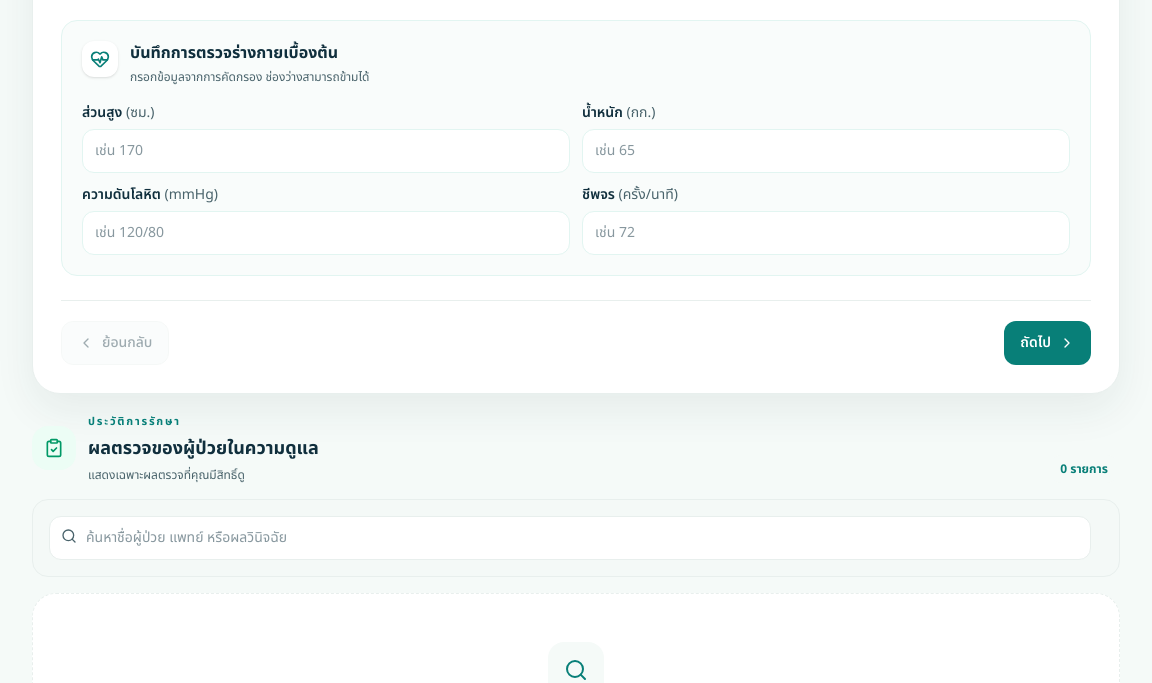
Test case: Clinic database-backed role containers with injected offline repository › removes a medication with a compact red X control without affecting the record form
This screenshot has width=1152, height=683.
(page scrolled)
Click the button "ถัดไป".
click(1048, 343)  # box [1004, 321, 1091, 365]
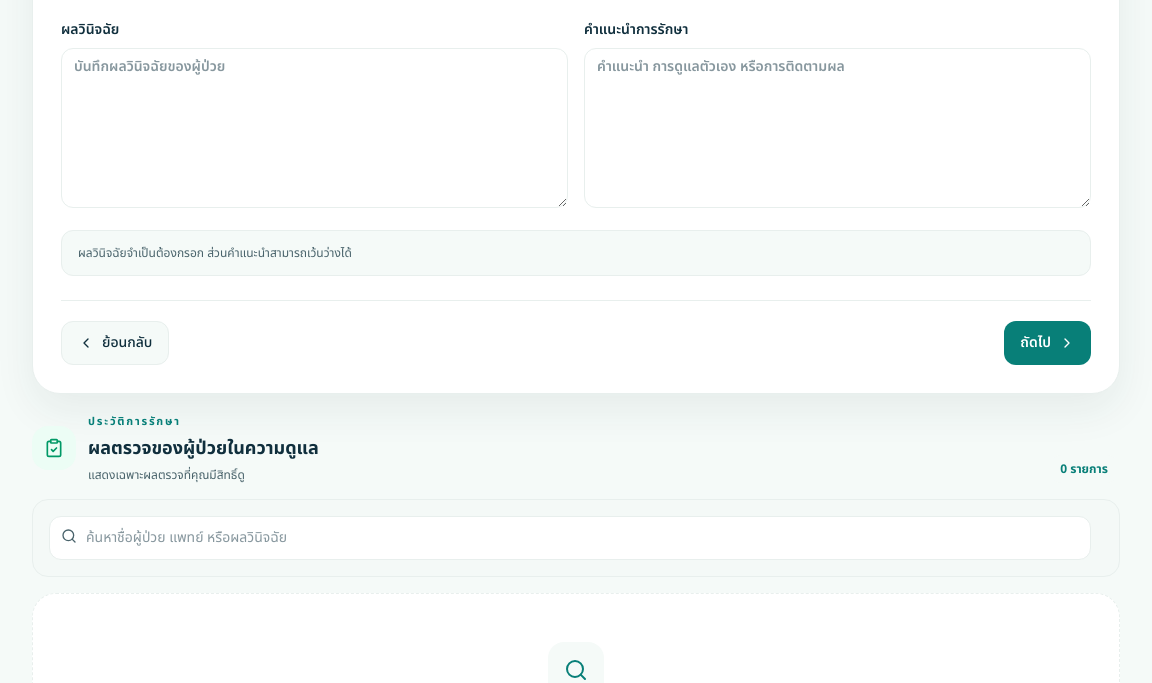
Type "ผลทดสอบ" into the text box labelled "ผลวินิจฉัย".
click(314, 128); type("ผลทดสอบ")  # box [61, 48, 568, 208]
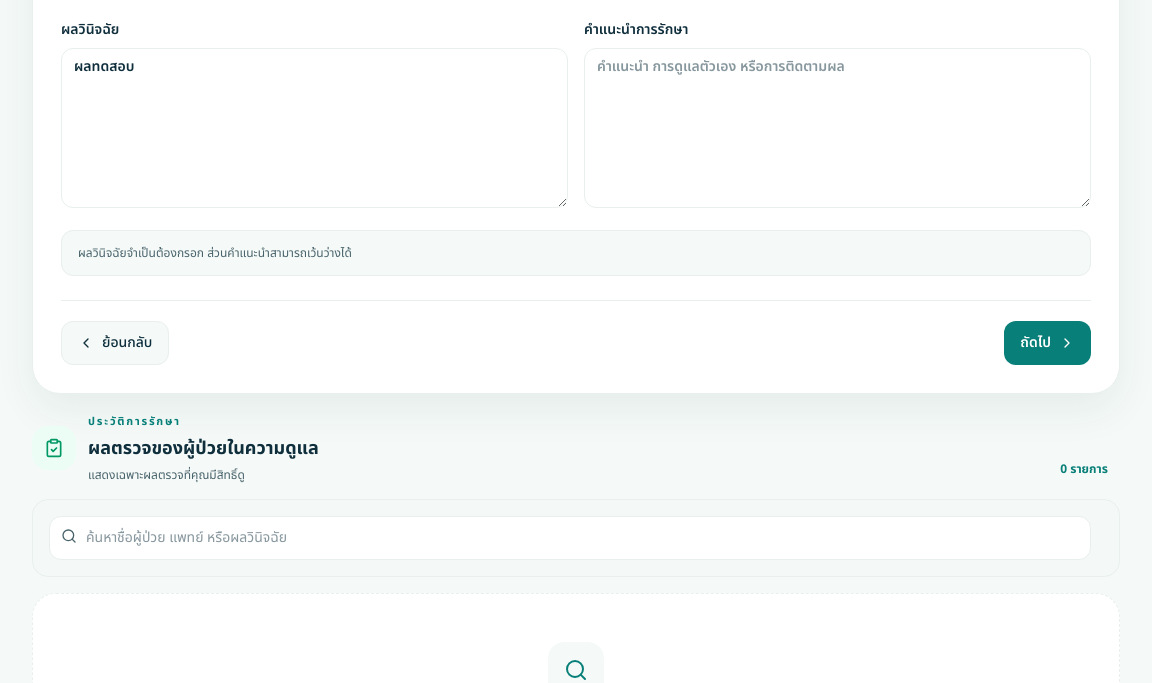
Click the button "ถัดไป".
click(1048, 343)  # box [1004, 321, 1091, 365]
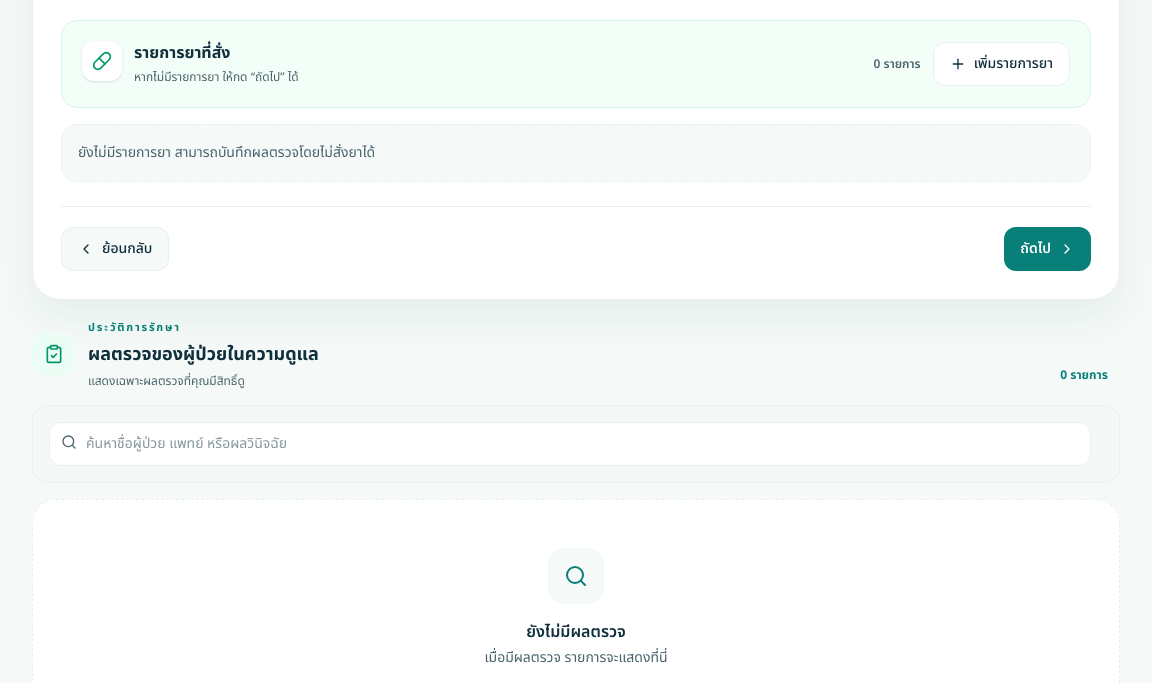
Click the button "เพิ่มรายการยา".
click(1001, 64)  # box [933, 42, 1070, 86]
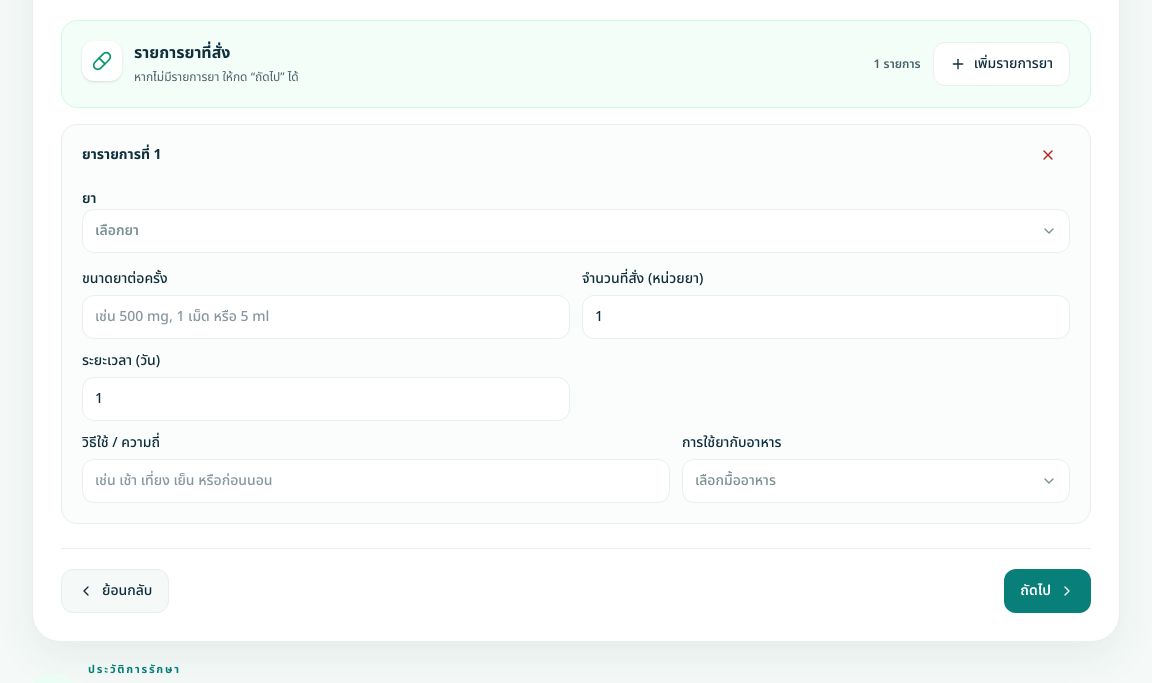
Check: the button named "ลบยารายการที่ 1" is shown
Click the button named "ลบยารายการที่ 1".
click(1048, 155)  # box [1026, 133, 1070, 177]
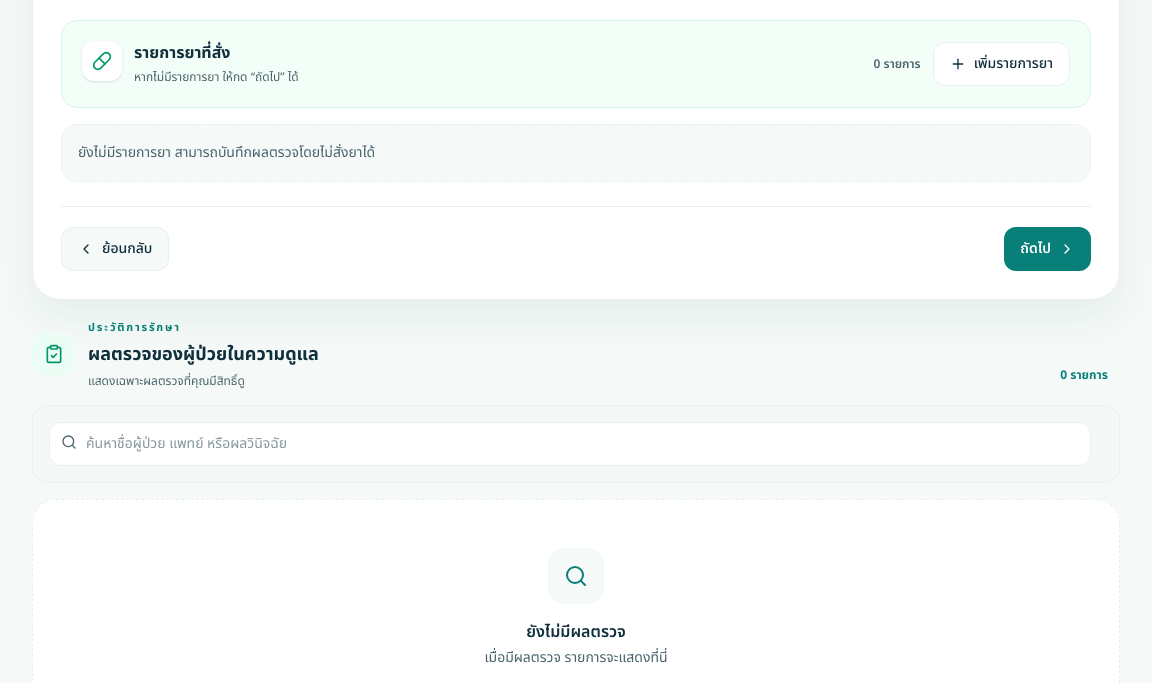
Check: the text "ยังไม่มีรายการยา สามารถบันทึกผลตรวจโดยไม่สั่งยาได้" is shown, box [61, 124, 1091, 182]
